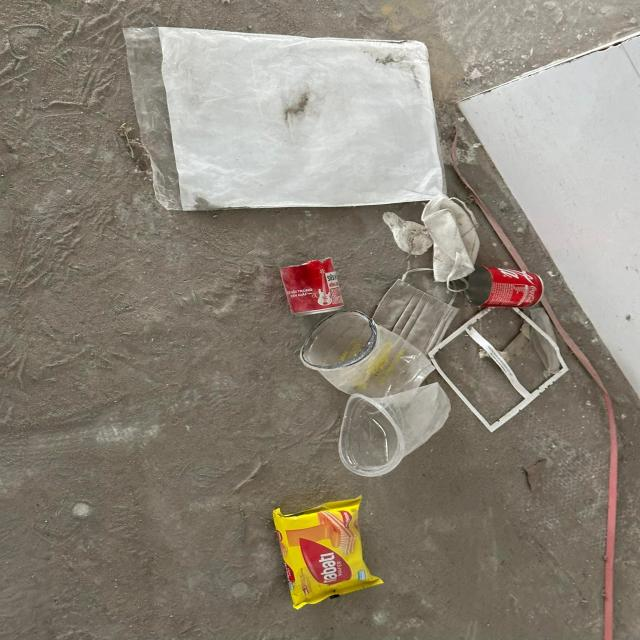bag: (123, 27, 446, 211)
can: (279, 256, 346, 316), (467, 267, 544, 308)
mask: (372, 269, 455, 358), (421, 197, 479, 292)
plastic glass: (301, 311, 437, 408), (340, 383, 451, 478)
snack package: (272, 496, 385, 610)
